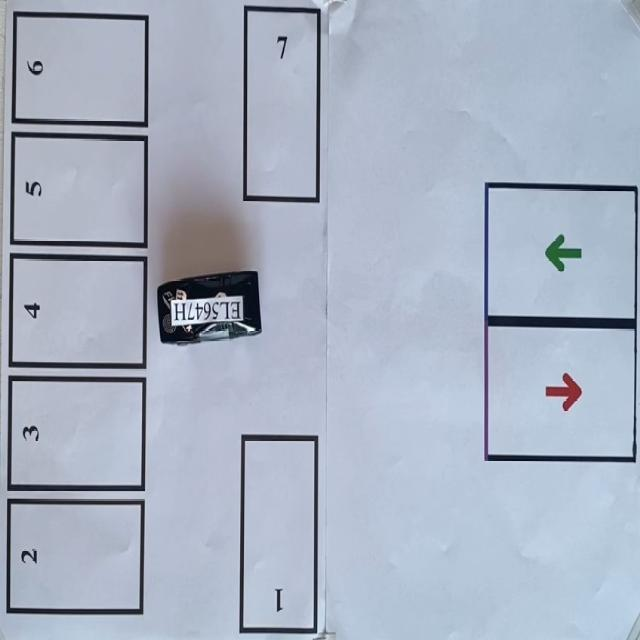car: (153, 267, 265, 350)
